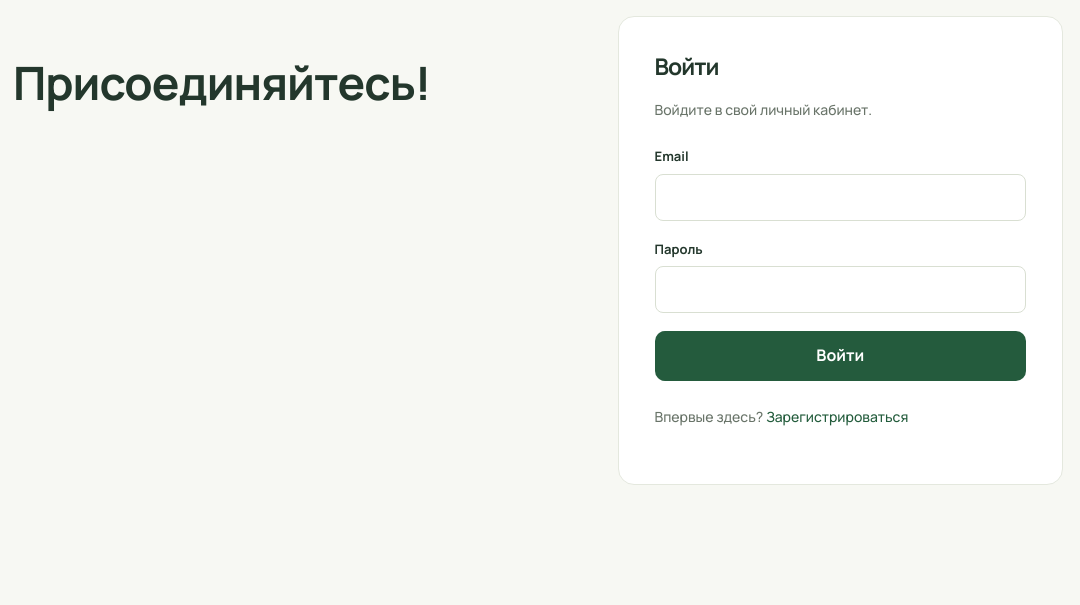
Test: reports failed login and re-enables submit
Step 1. Type "volunteer@example.com" into the field labelled "Email" → (840, 197), box [654,174,1026,221]
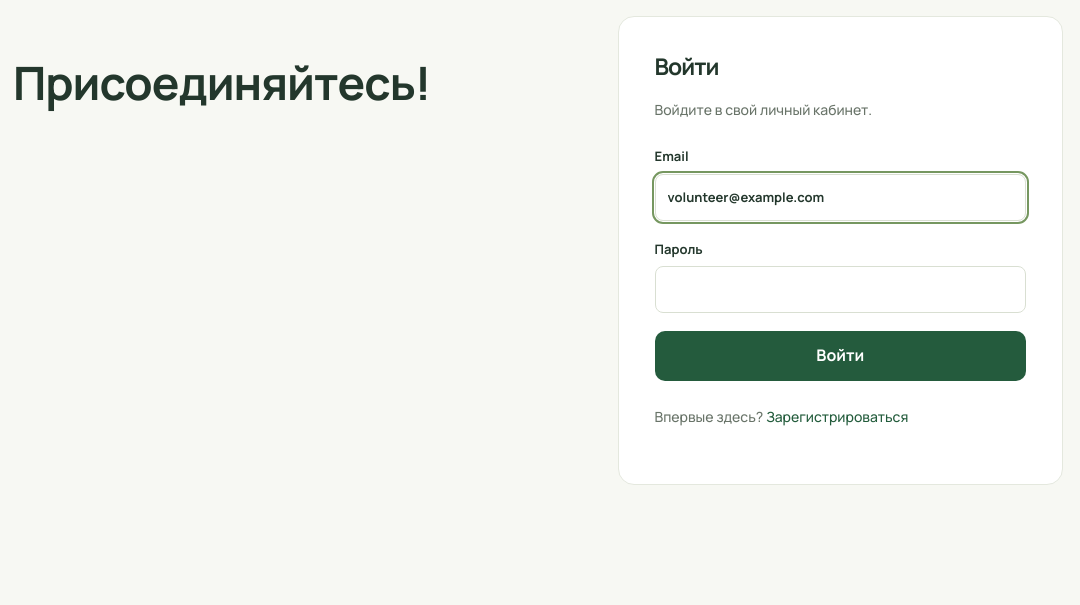
Step 2. Type "incorrect" into the password field labelled "Пароль" → (840, 290), box [654,266,1026,313]
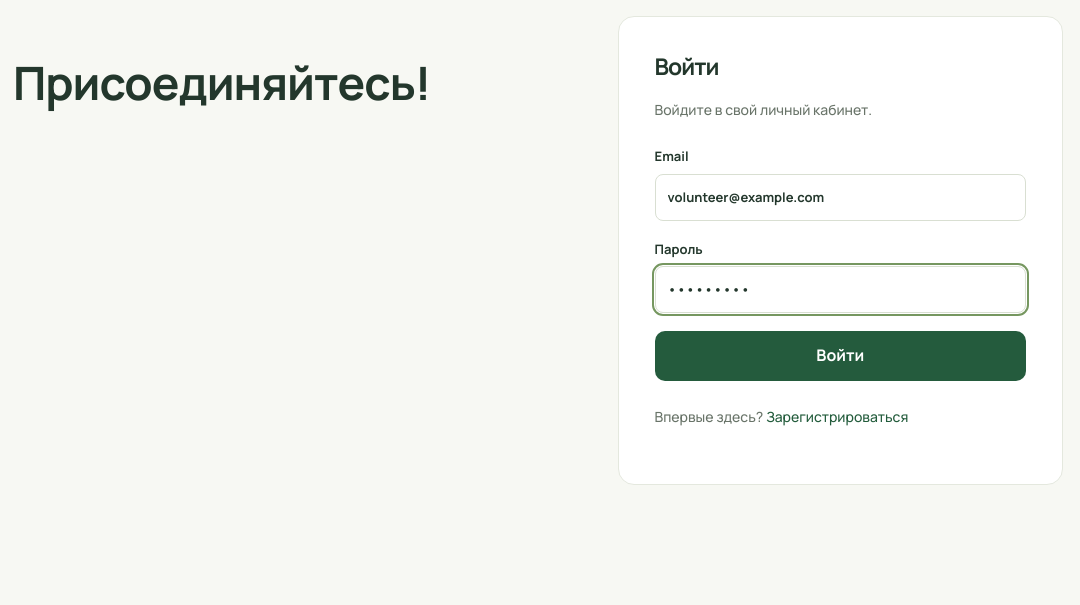
Step 3. Click the button "Войти" → (840, 356), box [654,331,1026,381]
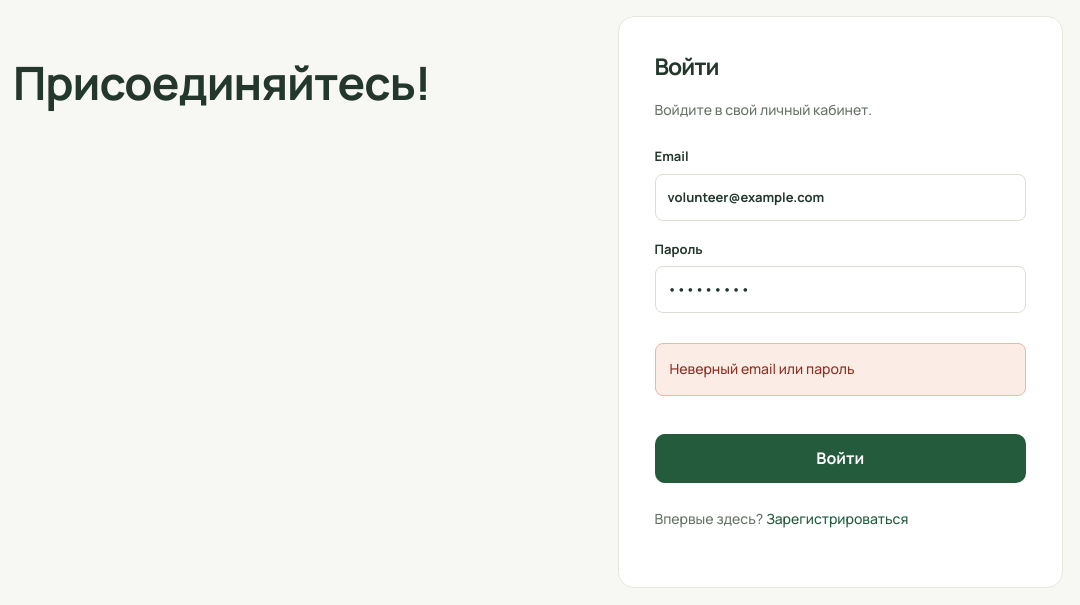
Expected: the button "Войти" is enabled, [654,434,1026,483]
Expected: the message reads "Неверный email или пароль", [670,359,855,378]
